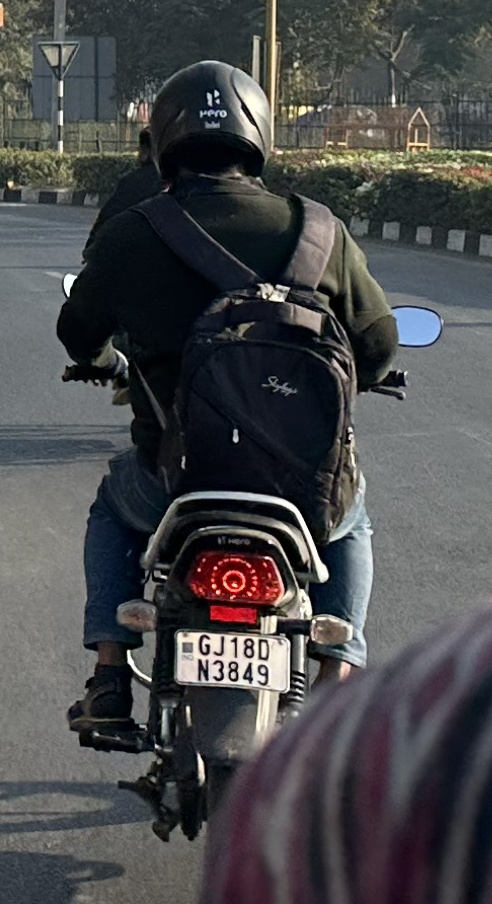BikeWithRider: (44, 47, 453, 871)
Helmet: (137, 51, 283, 197)
